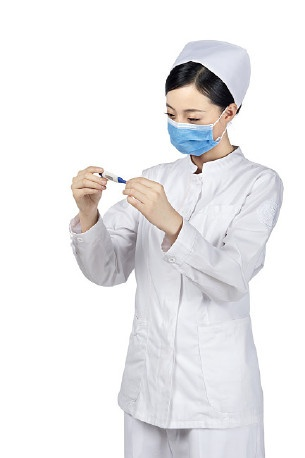Mask: (161, 103, 216, 158)
